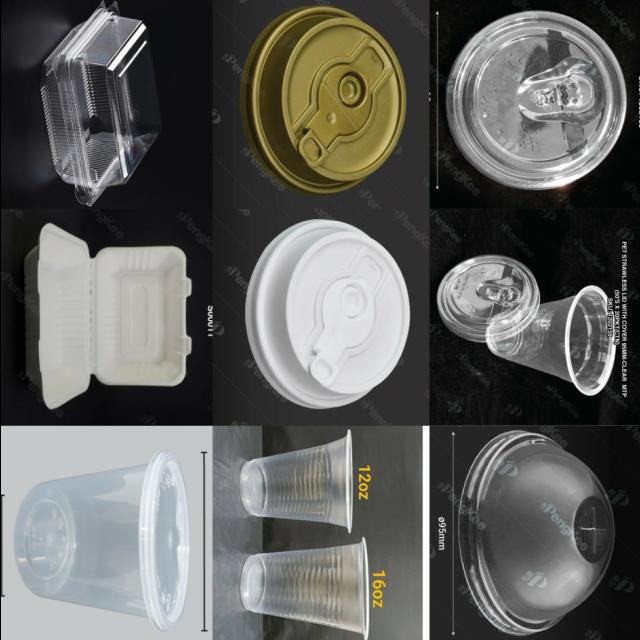plastik: (446, 11, 625, 189), (458, 430, 612, 635), (244, 219, 409, 409), (14, 451, 188, 631), (23, 223, 190, 409), (241, 6, 405, 194), (40, 3, 161, 205), (485, 283, 620, 398), (239, 538, 368, 639), (239, 432, 351, 530), (436, 256, 538, 346)
